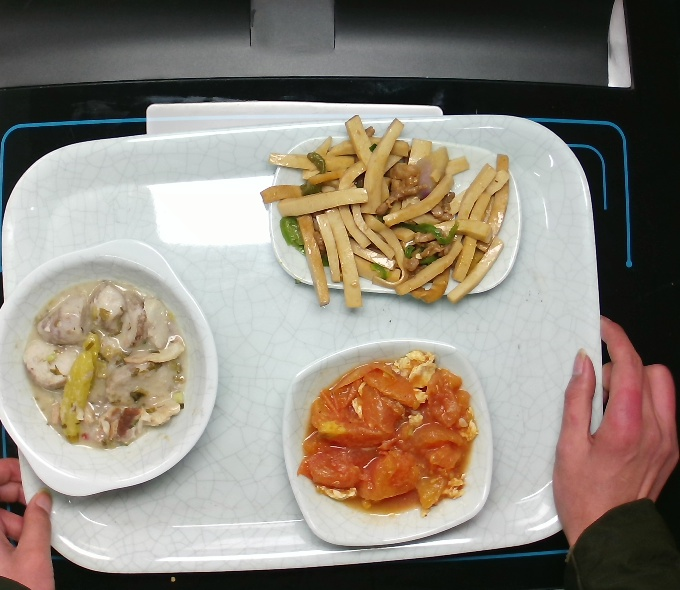wcq-FanQieChaoDan: (292, 345, 483, 519)
wcq-QianYeDouFu: (253, 112, 528, 312)
wcq-YangYu: (16, 271, 196, 454)
